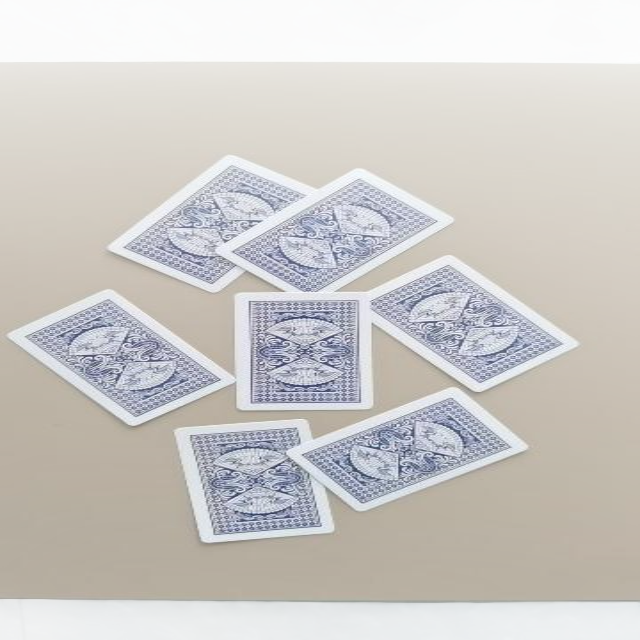card: (9, 290, 236, 425), (287, 388, 527, 511), (216, 169, 453, 291), (109, 155, 316, 292), (369, 256, 578, 391), (176, 420, 336, 542), (233, 292, 373, 410)
